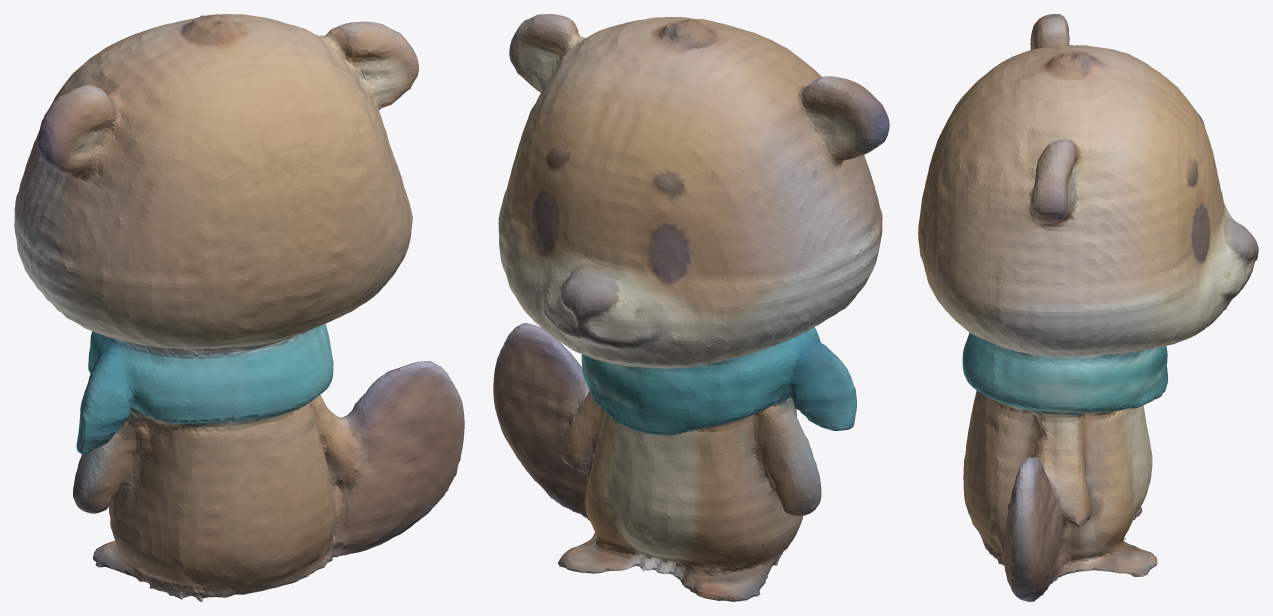
The model's file is animal_character.glb.
3 views of the same model, side by side, from view 1: azimuth 30°, elevation 25°; view 2: azimuth 150°, elevation 25°; view 3: azimuth 270°, elevation 25° (orthographic). The views are drawn at different scales.
Parts seen in each view (by area): view 1: world; view 2: world; view 3: world.
Part boxes in pixels (x1,y1,x2,y2): world: [14, 14, 464, 601]; world: [493, 14, 889, 601]; world: [918, 14, 1258, 601].
Size of the model in its own units: 1.59 by 2.01 by 1.28.
